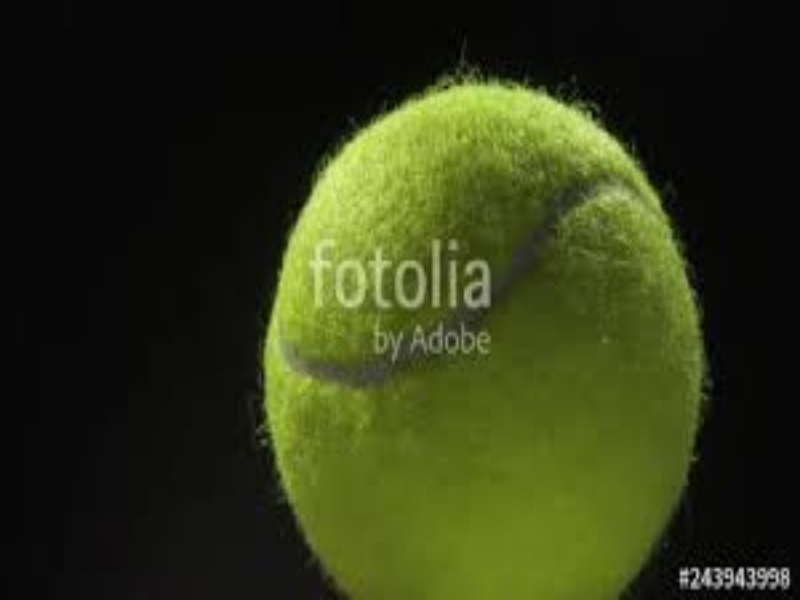tennis ball: (247, 57, 694, 600)
